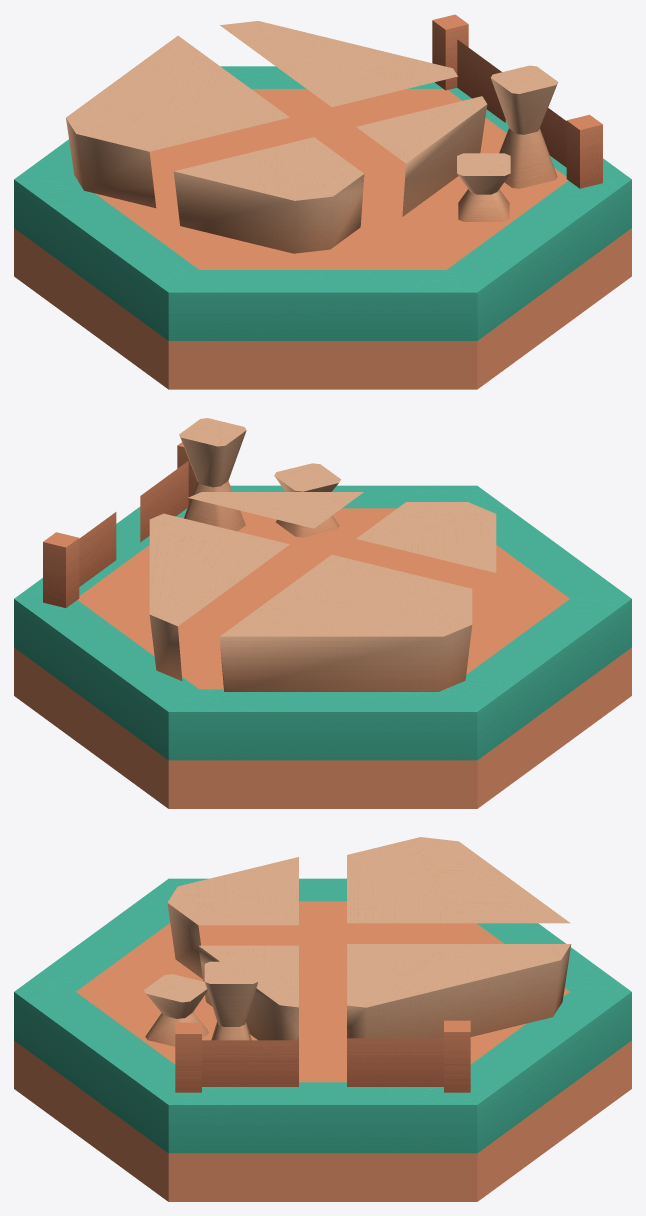
Rendered from farm-broken.glb.
The picture shows the model from 3 angles, top to bottom: view 1: azimuth 30°, elevation 25°; view 2: azimuth 150°, elevation 25°; view 3: azimuth 270°, elevation 25°; orthographic projection.
Parts seen in each view (by area): view 1: farm_base, farm_piece_1, farm_piece_2, farm_piece_3, farm_piece_0; view 2: farm_base, farm_piece_2, farm_piece_0, farm_piece_1, farm_piece_3; view 3: farm_base, farm_piece_0, farm_piece_1, farm_piece_2, farm_piece_3.
Part boxes in pixels (<box>): farm_base: <box>14,66,631,389</box>; farm_piece_1: <box>356,65,602,221</box>; farm_piece_2: <box>66,35,289,208</box>; farm_piece_3: <box>173,137,364,253</box>; farm_piece_0: <box>220,14,505,122</box>; farm_base: <box>14,485,631,808</box>; farm_piece_2: <box>220,554,472,691</box>; farm_piece_0: <box>43,512,289,680</box>; farm_piece_1: <box>140,418,363,542</box>; farm_piece_3: <box>356,502,496,572</box>; farm_base: <box>14,878,631,1201</box>; farm_piece_0: <box>347,944,571,1092</box>; farm_piece_1: <box>144,945,298,1092</box>; farm_piece_2: <box>347,837,570,923</box>; farm_piece_3: <box>167,857,298,979</box>.
Size of the model in its own units: 1 by 0.396 by 1.15.
Materials: 1 (1 with a texture image).
